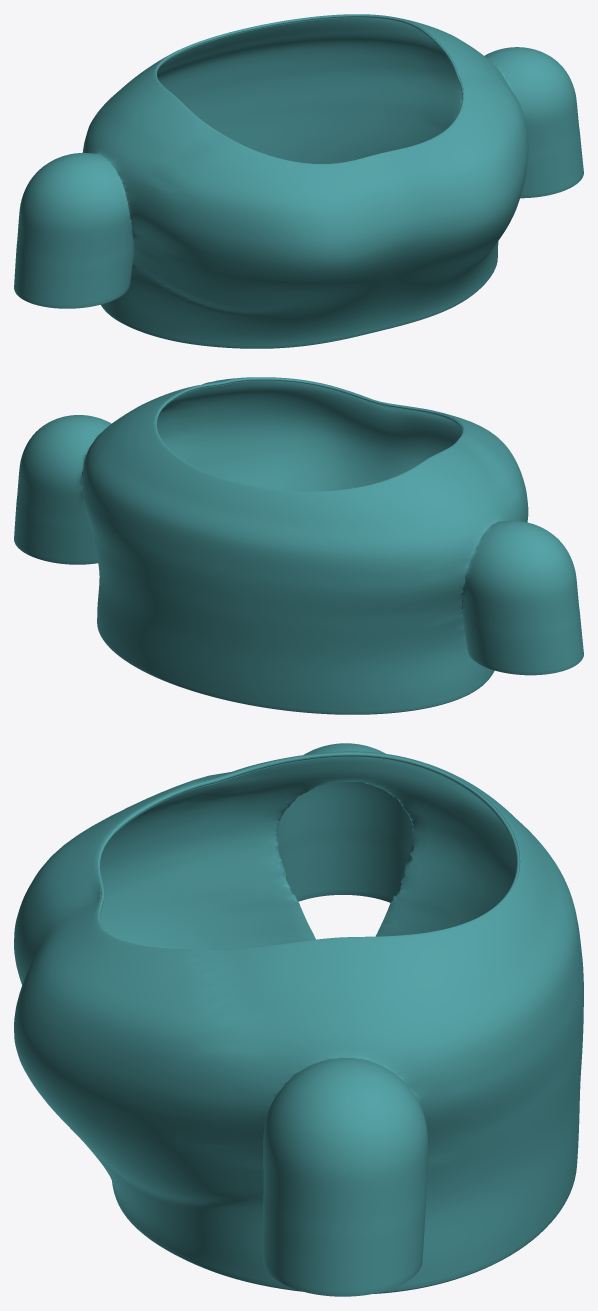
Rendered from Feminine-tshirt-top.glb.
3 renders of one model, top to bottom at view 1: azimuth 30°, elevation 25°; view 2: azimuth 150°, elevation 25°; view 3: azimuth 270°, elevation 25°, orthographic. The views are drawn at different scales.
Parts seen in each view (by area): view 1: Clothing / continuous T-shirt181, Neckline / seated181 export; view 2: Clothing / continuous T-shirt181, Neckline / seated181 export; view 3: Clothing / continuous T-shirt181, Neckline / seated181 export.
Part boxes in pixels (x1=…): Clothing / continuous T-shirt181: x1=14, y1=14, x2=583, y2=348; Neckline / seated181 export: x1=155, y1=14, x2=463, y2=164; Clothing / continuous T-shirt181: x1=14, y1=377, x2=583, y2=714; Neckline / seated181 export: x1=155, y1=377, x2=463, y2=491; Clothing / continuous T-shirt181: x1=14, y1=743, x2=583, y2=1296; Neckline / seated181 export: x1=97, y1=752, x2=519, y2=949.
Bounding box in the file's own units: 0.9275 × 0.3394 × 0.5525.
